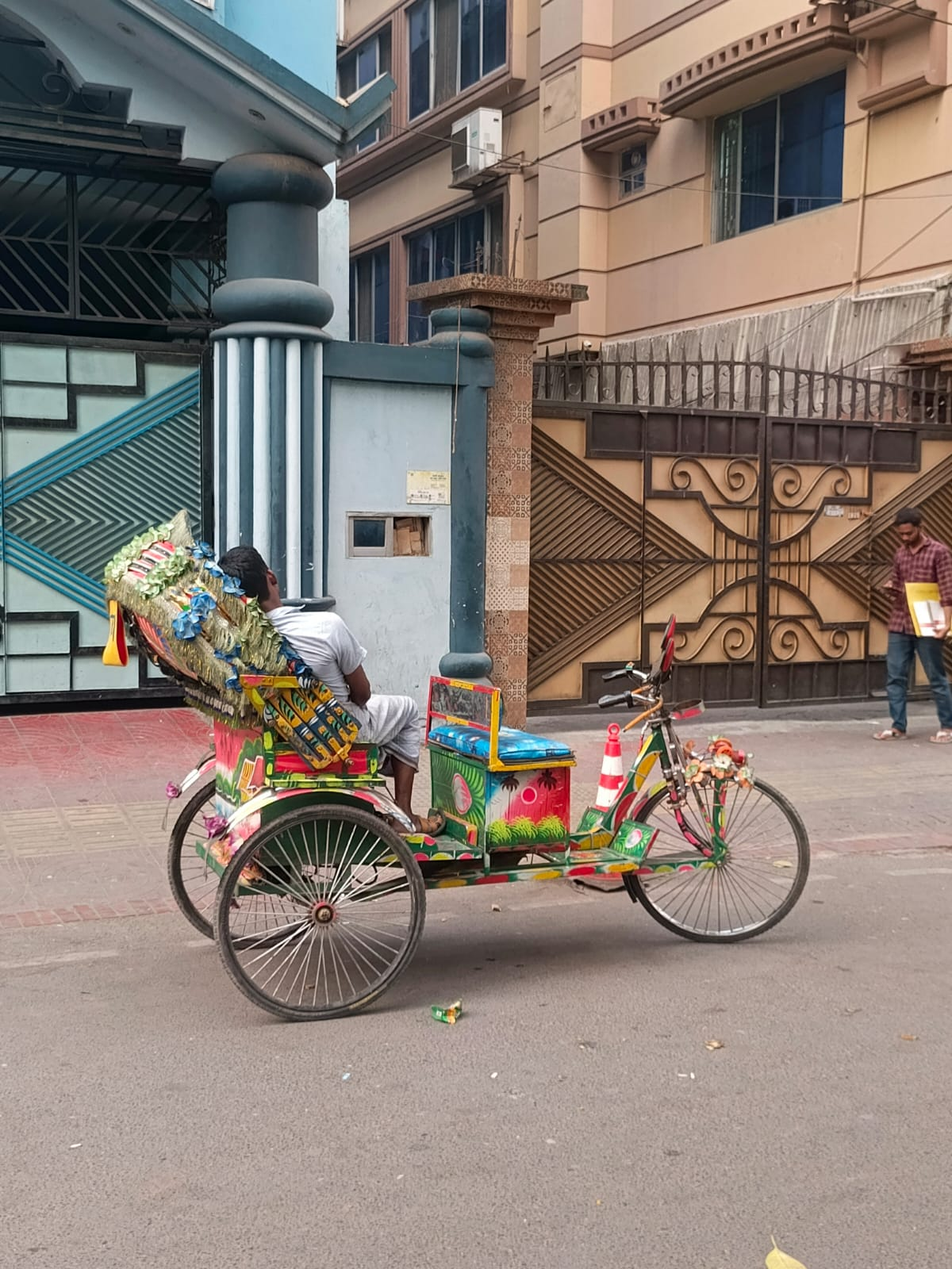auto-ricksaw: (63, 503, 840, 1054)
